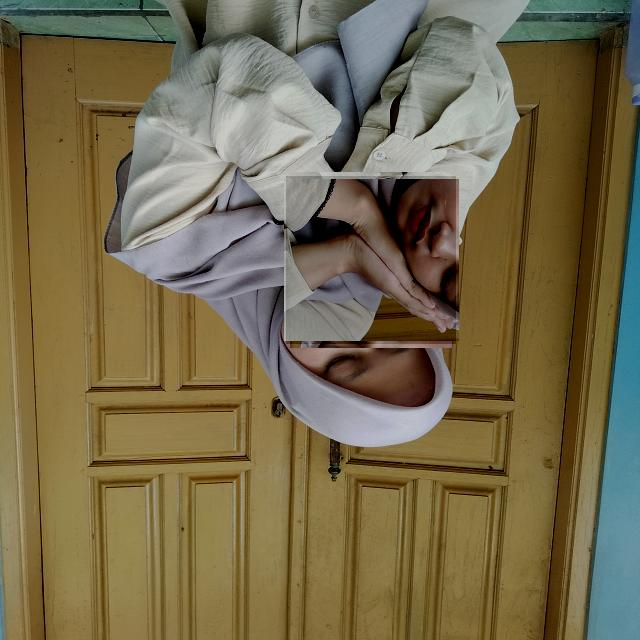tidur: (286, 176, 456, 344)
